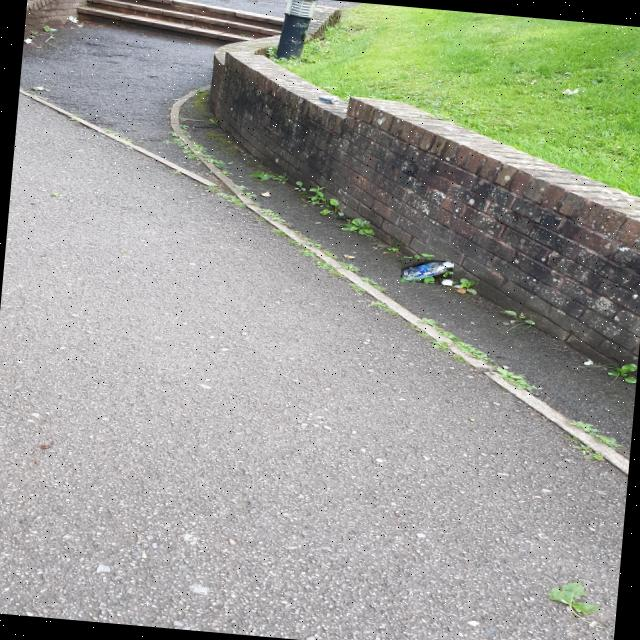Clear plastic bottle: (401, 261, 452, 281)
Other carton: (319, 95, 338, 102)
Plastic bottle cap: (443, 279, 452, 285)
